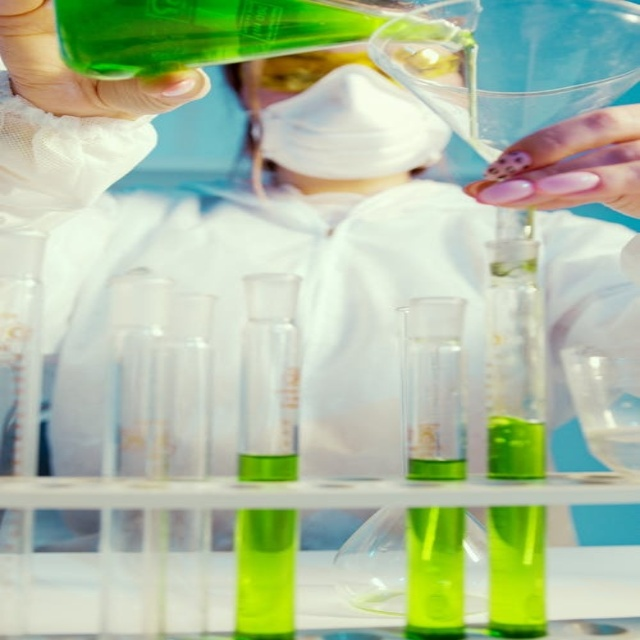Gafas: (253, 46, 459, 94)
Mascara: (252, 62, 456, 178)
Sin_guantes: (1, 0, 213, 125), (464, 100, 640, 219)
